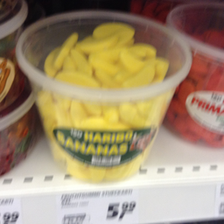candy: (16, 10, 193, 184)
